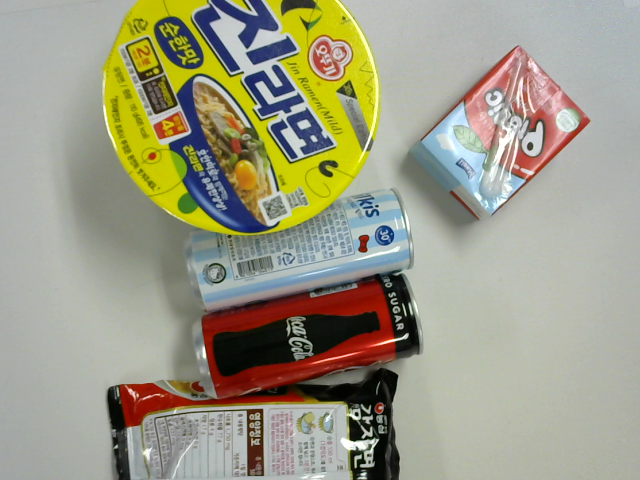Coca_Cola_Zero_Can_250ml: (182, 278, 429, 383)
Jinlamyeon_Mild_Taste_Large_Cup: (98, 1, 373, 242)
Milkies_250ml: (175, 175, 417, 320)
Picnic_Apple: (414, 43, 583, 226)
Potato: (111, 366, 415, 480)
